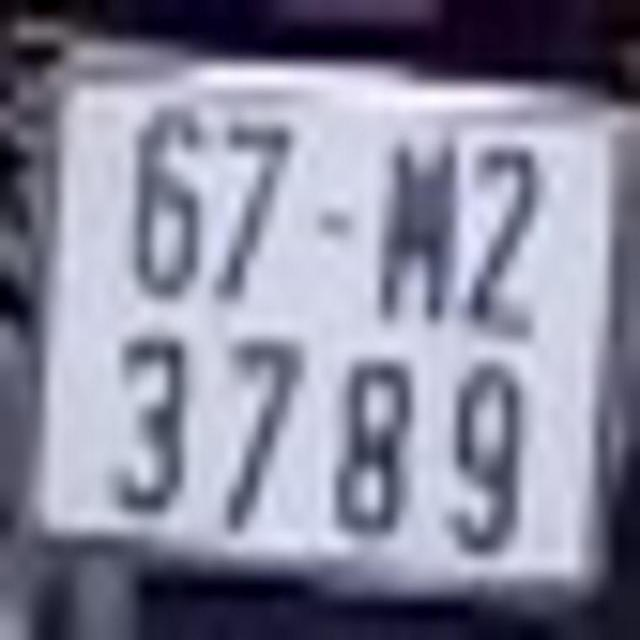2: (465, 136, 540, 332)
3: (109, 326, 182, 506)
6: (124, 100, 198, 306)
7: (205, 330, 318, 536), (210, 110, 290, 300)
8: (330, 348, 411, 542)
9: (447, 357, 516, 558)
M: (369, 137, 455, 328)
